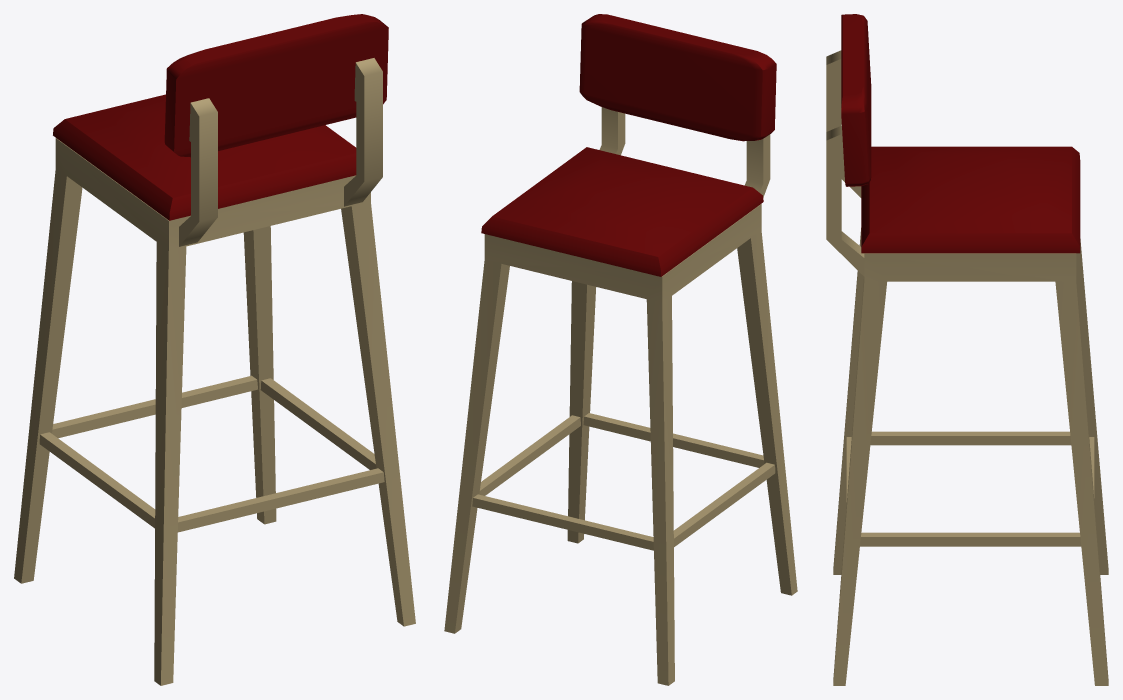
File: 10_CHAIR4.fbx
3 renders of one model, left to right at view 1: azimuth 30°, elevation 25°; view 2: azimuth 150°, elevation 25°; view 3: azimuth 270°, elevation 25°, orthographic. The views are drawn at different scales.
Visible parts, largest first — view 1: legs3, foam3; view 2: legs3, foam3; view 3: legs3, foam3.
Part boxes in pixels (box(x1,y1,x2,y2)): legs3: box(14, 58, 415, 685); foam3: box(53, 14, 388, 220); legs3: box(444, 107, 797, 685); foam3: box(481, 14, 776, 276); legs3: box(826, 50, 1108, 685); foam3: box(841, 14, 1080, 253).
Size of the model in its own units: 1.36 by 3.12 by 1.39.
